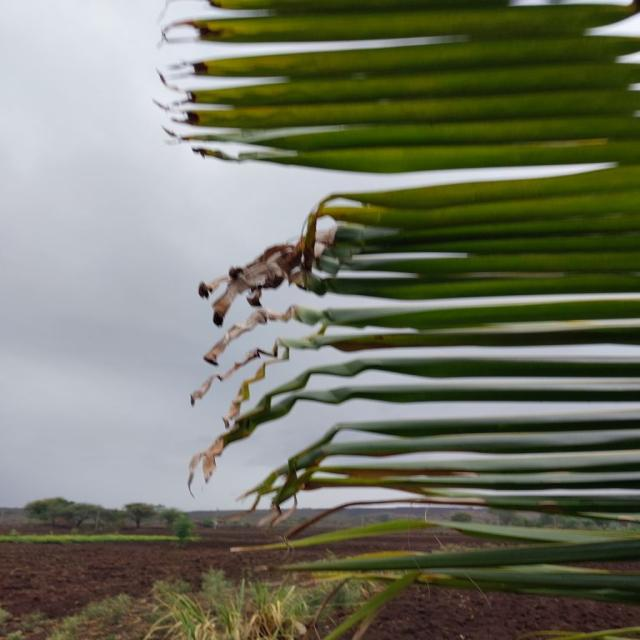leaf rot: (182, 183, 453, 561), (147, 5, 307, 173)
